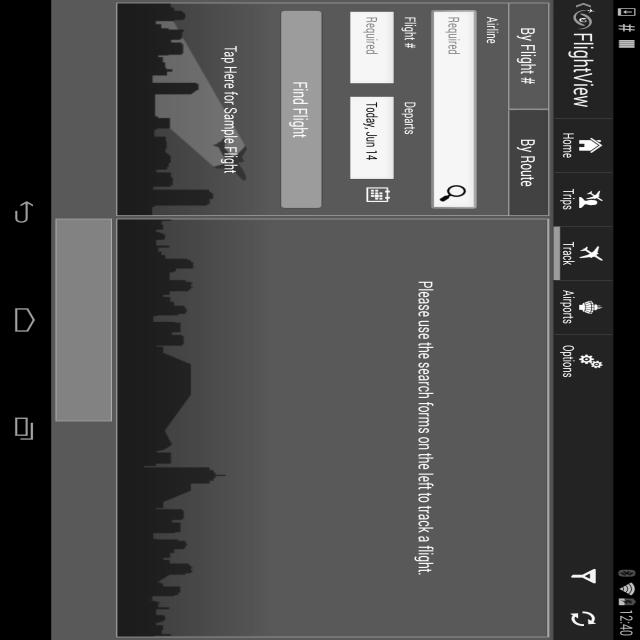Button: (16, 198, 334, 225)
EditText: (16, 102, 334, 134), (152, 153, 289, 185), (16, 153, 136, 185)
ImageView: (280, 17, 358, 38), (194, 17, 271, 38), (367, 17, 444, 38), (453, 17, 530, 38), (540, 17, 616, 38), (290, 105, 329, 129), (13, 25, 48, 46), (294, 153, 328, 174), (0, 30, 17, 41)
TextView: (6, 232, 344, 279), (351, 330, 640, 364), (351, 125, 640, 142), (5, 57, 174, 82), (176, 57, 345, 82), (52, 24, 172, 46), (141, 137, 216, 150), (6, 137, 78, 150), (5, 86, 70, 98), (464, 38, 519, 51), (552, 38, 604, 51), (212, 38, 253, 51), (387, 38, 424, 51), (302, 38, 336, 51), (351, 57, 640, 58), (351, 58, 640, 59)
